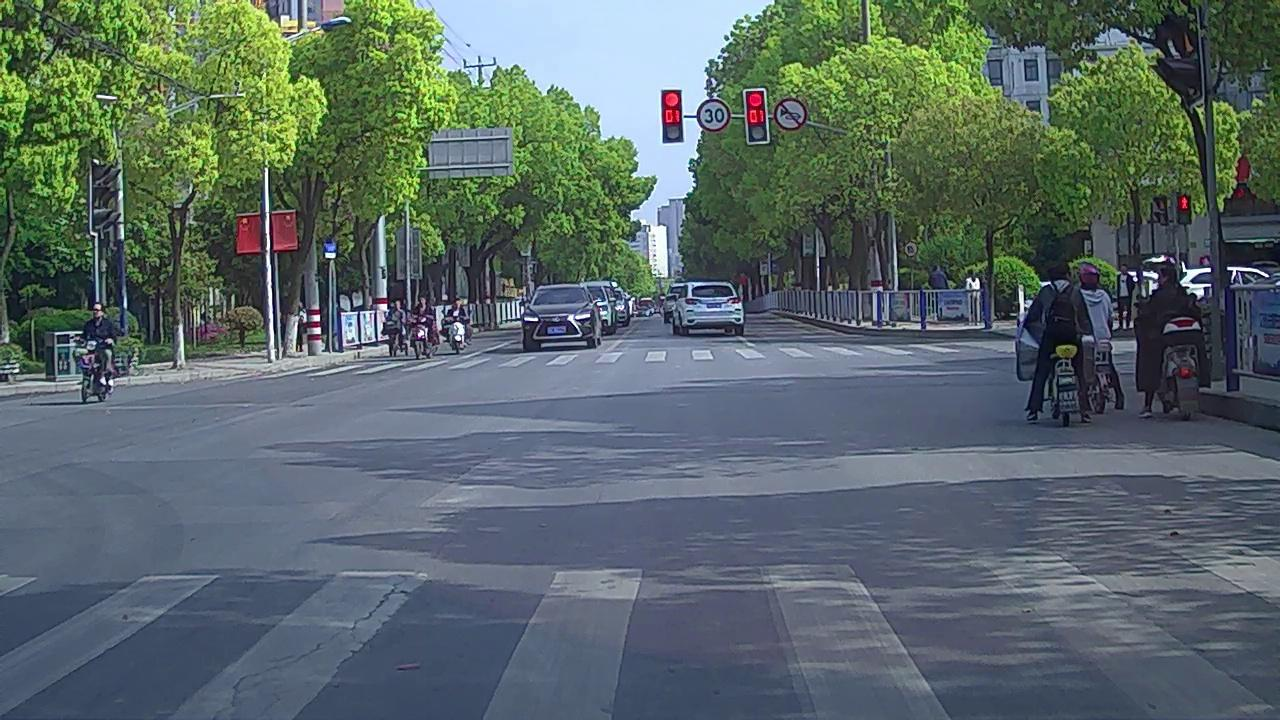traffic_light: (746, 90, 768, 143), (662, 88, 683, 143)
